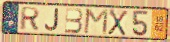5: (132, 10, 150, 38)
B: (64, 7, 84, 35)
J: (44, 8, 60, 32)
M: (83, 8, 110, 36)
R: (18, 6, 41, 31)
X: (107, 8, 129, 37)
